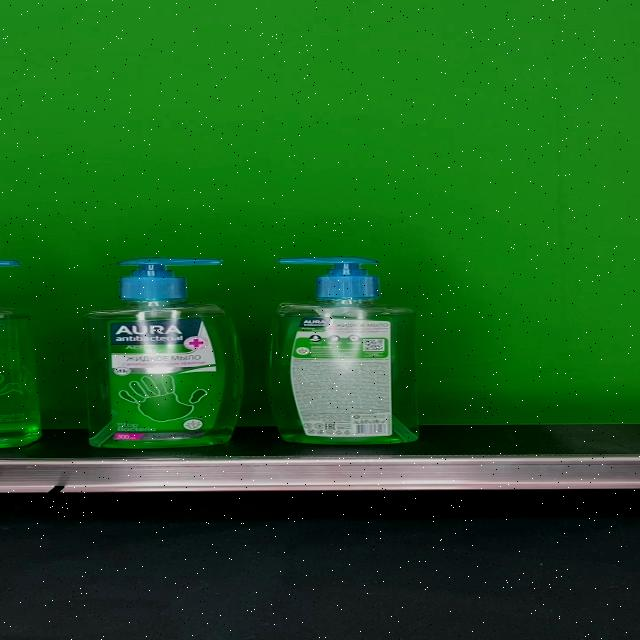Bottle: (85, 258, 244, 449), (267, 257, 418, 445)
Cap: (276, 257, 379, 300), (118, 258, 222, 300)
